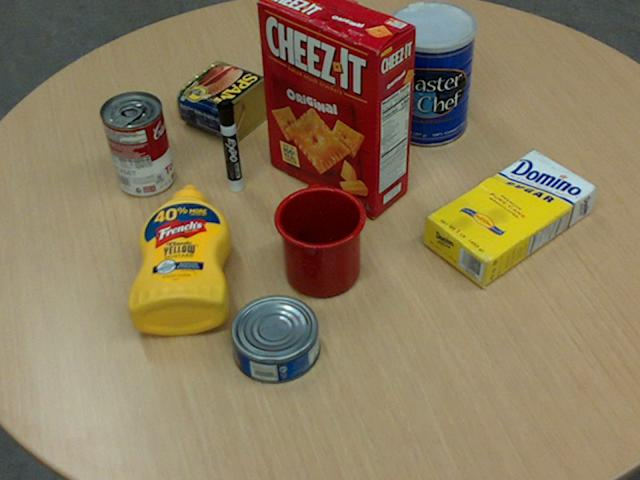cracker_box: (258, 0, 415, 215)
gelatin_box: (280, 45, 357, 108)
large_marker: (216, 99, 242, 193)
master_chef_can: (386, 2, 476, 147)
mug: (272, 185, 365, 297)
mustard_bottle: (127, 184, 230, 334)
potted_meat_can: (176, 61, 277, 143)
sugar_box: (422, 150, 596, 288)
tomato_soup_can: (99, 89, 173, 194)
tuna_fish_can: (230, 295, 320, 383)
